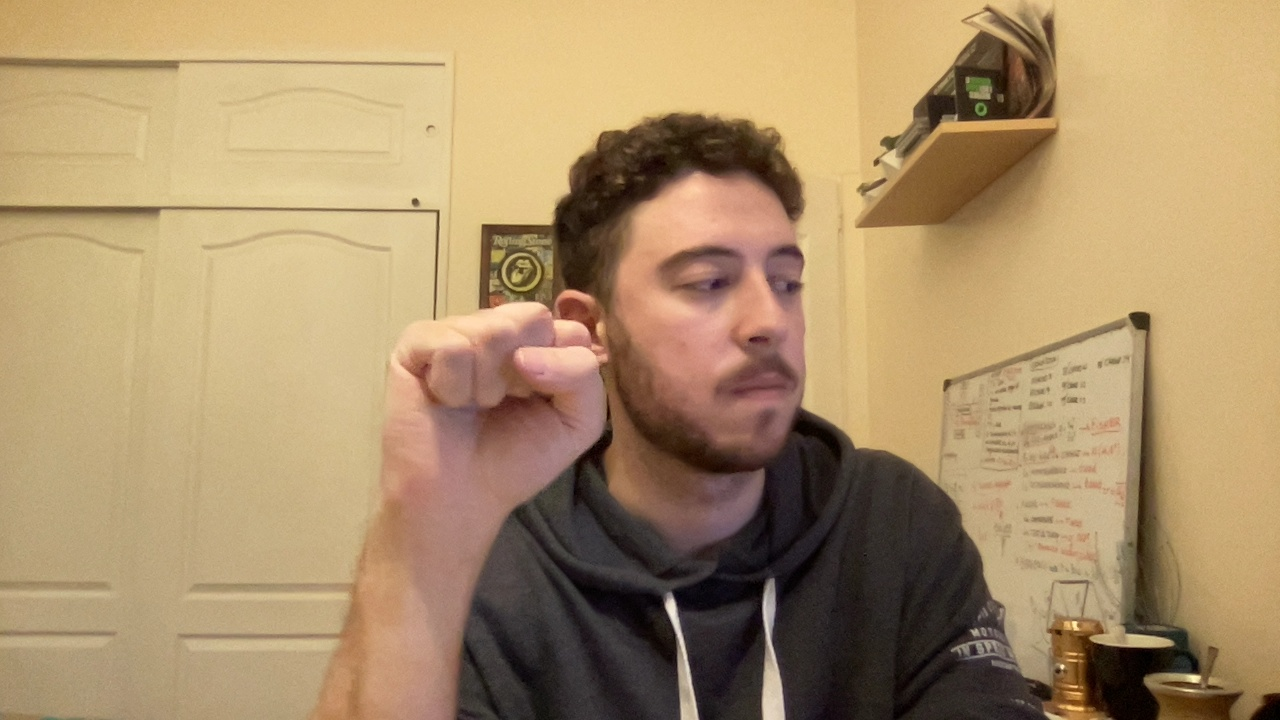cerrado: (331, 287, 619, 540)
